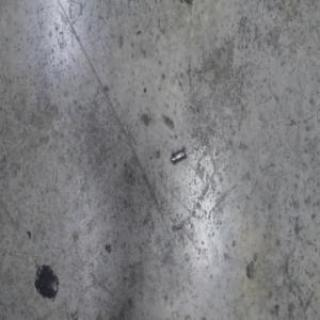Bolttrack_idkeyframe: (170, 145, 186, 165)
